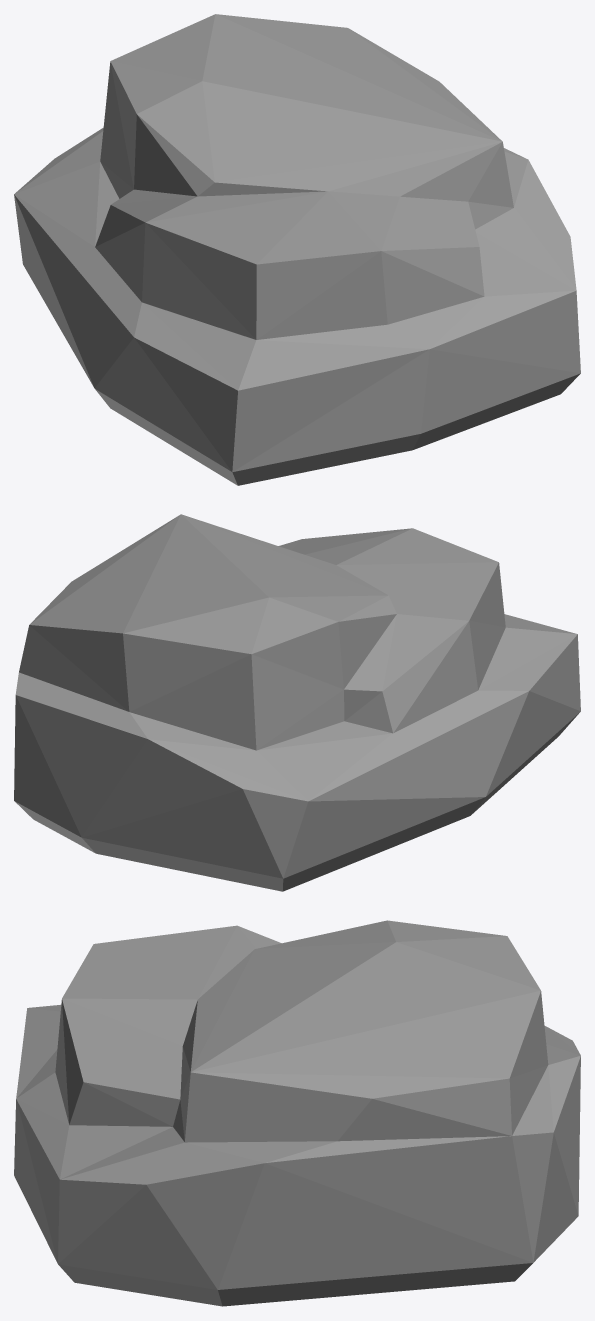
File: rock2.glb
3 views of the same model, one above another, from view 1: azimuth 30°, elevation 25°; view 2: azimuth 150°, elevation 25°; view 3: azimuth 270°, elevation 25° (orthographic). The views are drawn at different scales.
Parts seen in each view (by area): view 1: rock5.natural.light; view 2: rock5.natural.light; view 3: rock5.natural.light.
Boxes of the visible parts, left/top/right/bottom form: rock5.natural.light: left=14, top=14, right=580, bottom=485; rock5.natural.light: left=14, top=514, right=580, bottom=891; rock5.natural.light: left=14, top=920, right=580, bottom=1306.
Size of the model in its own units: 3.27 by 1.74 by 3.67.
Materials: 1 (1 with a texture image).
